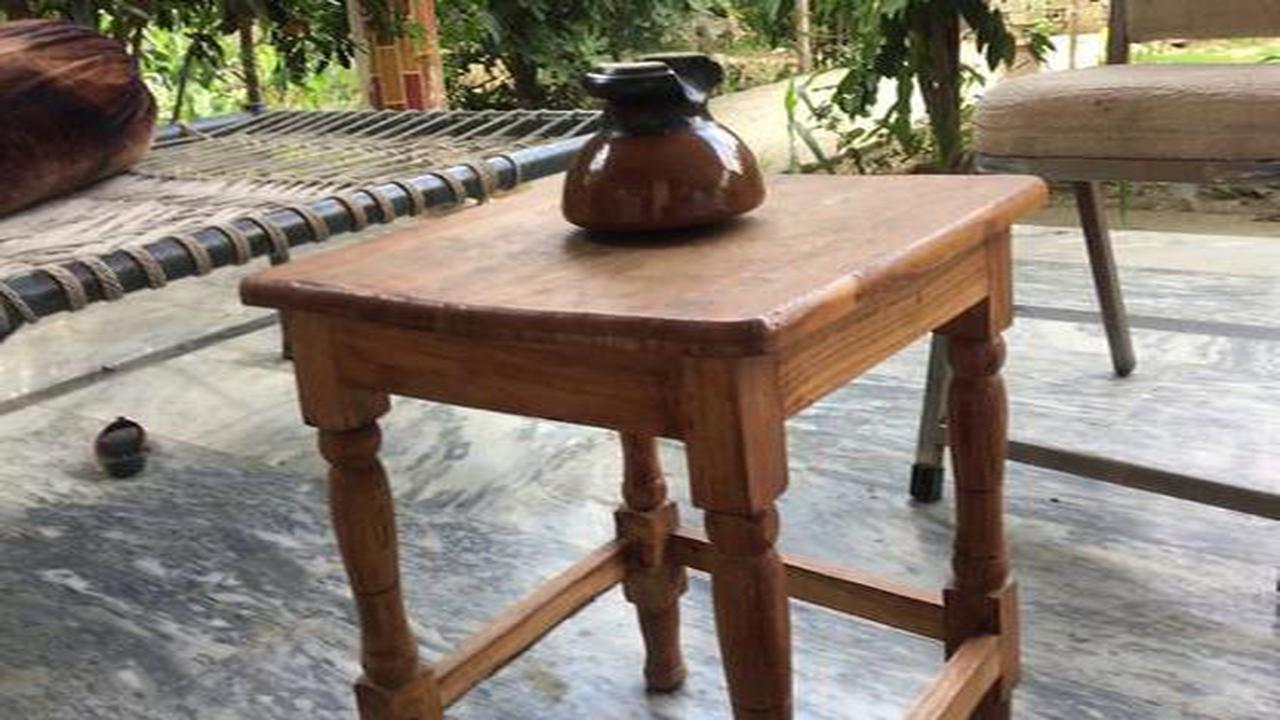insulator_pin: (524, 46, 791, 246)
